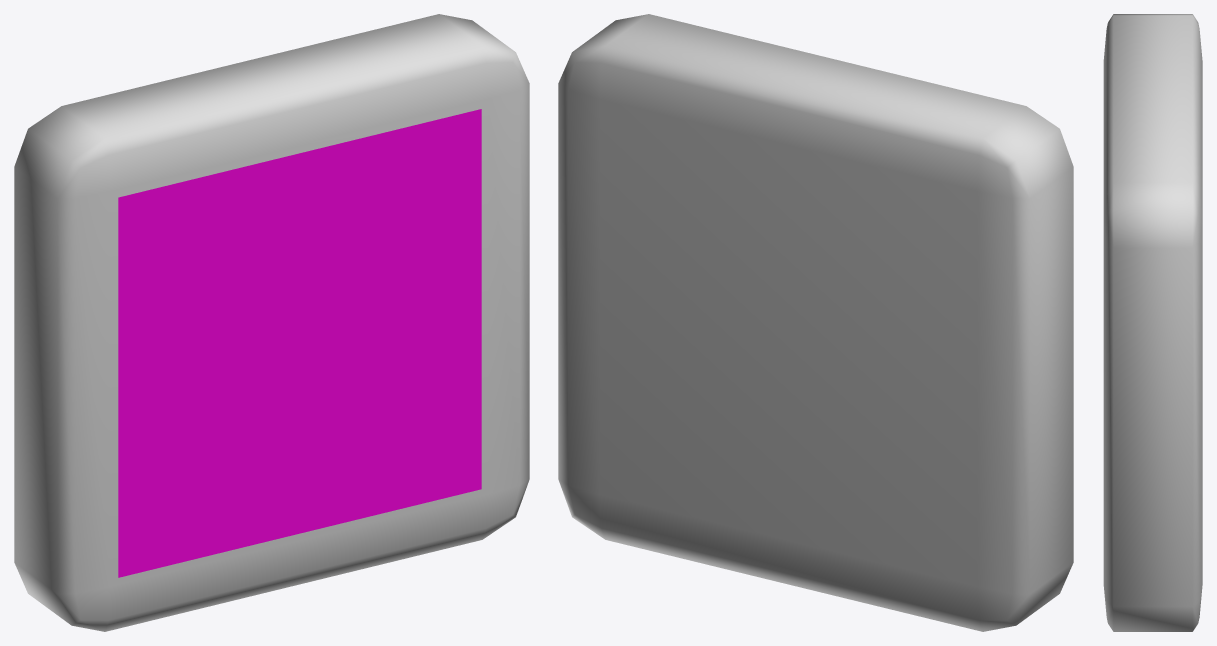
Rendered from cube_icon.glb.
The picture shows the model from 3 angles, left to right: view 1: azimuth 30°, elevation 25°; view 2: azimuth 150°, elevation 25°; view 3: azimuth 270°, elevation 25°; orthographic projection. The views are drawn at different scales.
Parts seen in each view (by area): view 1: PlaneIcon, RoundedCube; view 2: RoundedCube; view 3: RoundedCube.
Boxes of the visible parts, <box> form: PlaneIcon: <box>118,109,481,577</box>; RoundedCube: <box>14,14,529,631</box>; RoundedCube: <box>558,14,1073,631</box>; RoundedCube: <box>1103,14,1202,631</box>.
Size of the model in its own units: 2 by 2 by 0.405.
